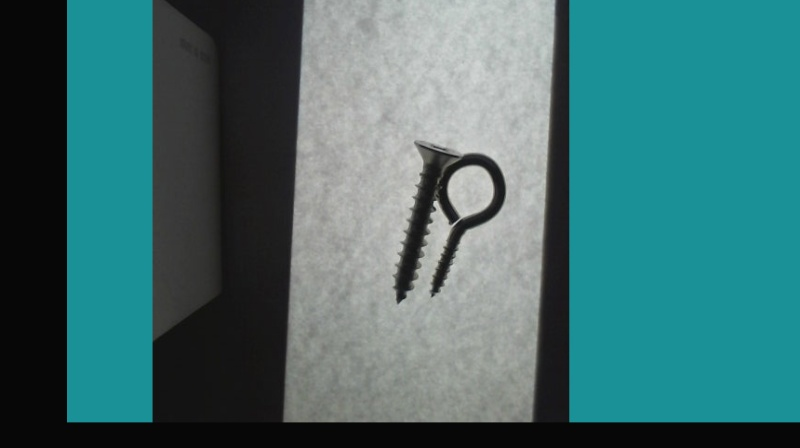O001: (426, 145, 506, 298)
S001: (393, 141, 460, 305)
